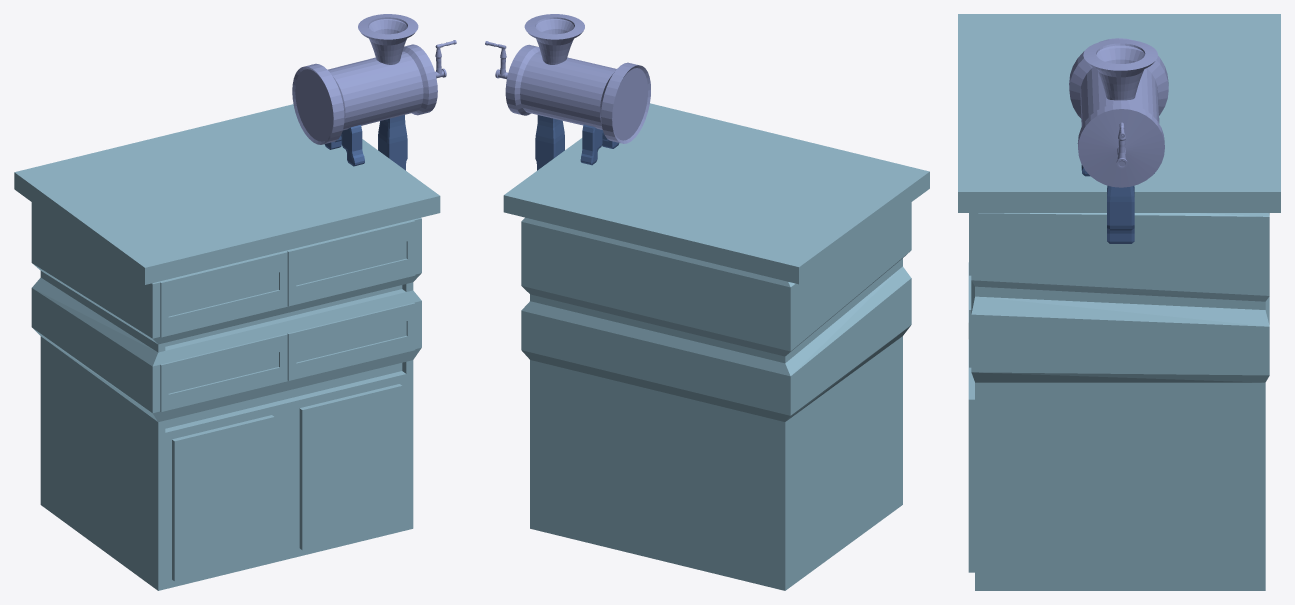
Rendered from grinding_station.fbx.
The picture shows the model from 3 angles, left to right: view 1: azimuth 30°, elevation 25°; view 2: azimuth 150°, elevation 25°; view 3: azimuth 270°, elevation 25°; orthographic projection. The views are drawn at different scales.
Visible parts, largest first — view 1: counter, body, leg; view 2: counter, body, leg; view 3: counter, body, leg.
Boxes of the visible parts, bbox=[...] form: counter: bbox=[14, 104, 440, 590]; body: bbox=[292, 14, 456, 144]; leg: bbox=[324, 115, 407, 170]; counter: bbox=[503, 103, 929, 590]; body: bbox=[485, 14, 650, 143]; leg: bbox=[535, 115, 619, 170]; counter: bbox=[958, 14, 1280, 590]; body: bbox=[1069, 38, 1168, 187]; leg: bbox=[1081, 165, 1154, 243].
Bounding box in the file's own units: 1103 × 1262 × 662.
